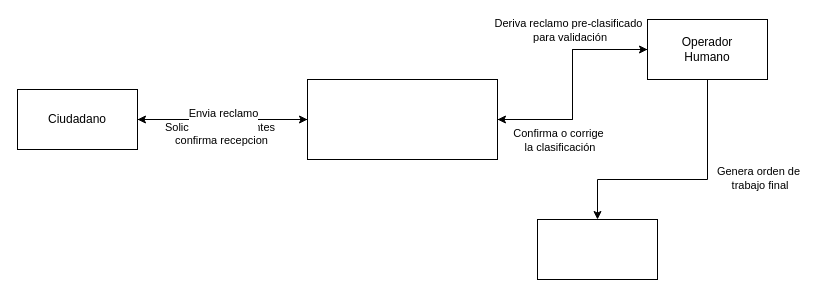
This 817x297 diagram has some shape labels left out. The centre of each missing label's shape, as x and y in pixels:
"Sistema de Ordenes de Trabajo Municipal" belongs at (x=597, y=249).
"Sistema SIGIA (Agente de IA)" belongs at (x=402, y=119).
